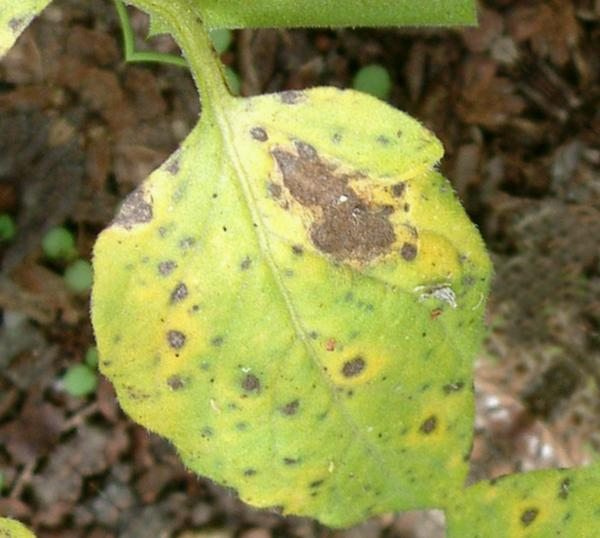Tomato Early blight leaf: (1, 1, 600, 538)
